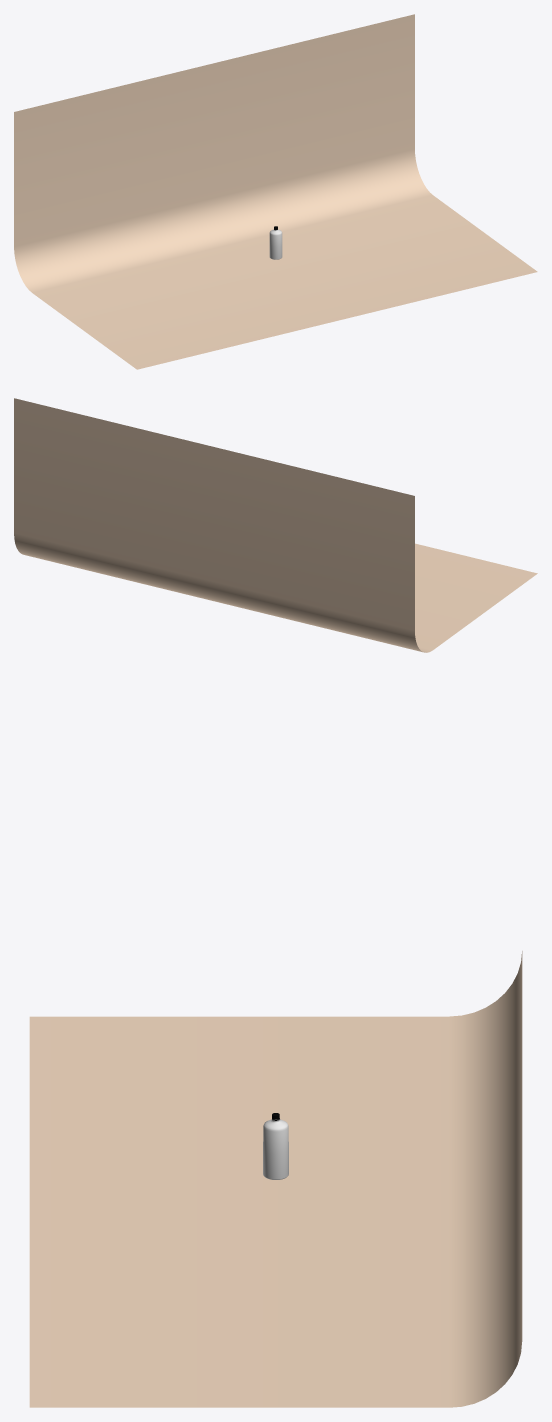
File: bottle1.gltf
3 views of the same model, one above another, from view 1: azimuth 30°, elevation 25°; view 2: azimuth 150°, elevation 25°; view 3: azimuth 270°, elevation 25° (orthographic). The views are drawn at different scales.
Visible parts, largest first — view 1: Background; view 2: Background; view 3: Background, Circle, Circle.003.
Part boxes in pixels (left/top/right/bottom): Background: left=14, top=14, right=537, bottom=369; Background: left=14, top=398, right=537, bottom=652; Background: left=29, top=951, right=522, bottom=1407; Circle: left=263, top=1119, right=288, bottom=1179; Circle.003: left=263, top=1120, right=288, bottom=1179.
Bounding box in the file's own units: 33.48 × 13.38 × 17.81.
